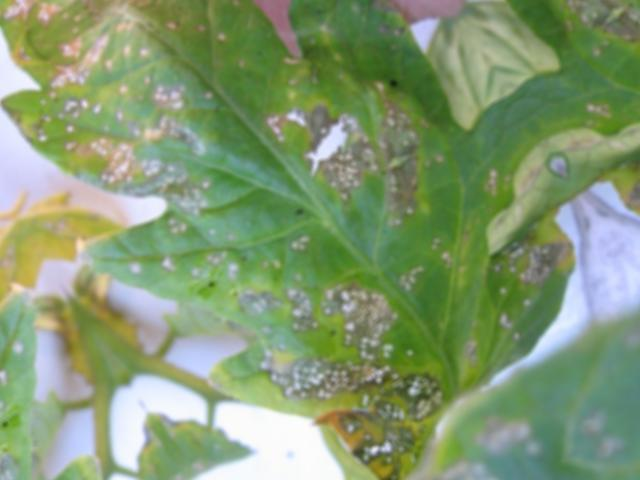Tomato Septoria leaf spot: (6, 0, 640, 480)
